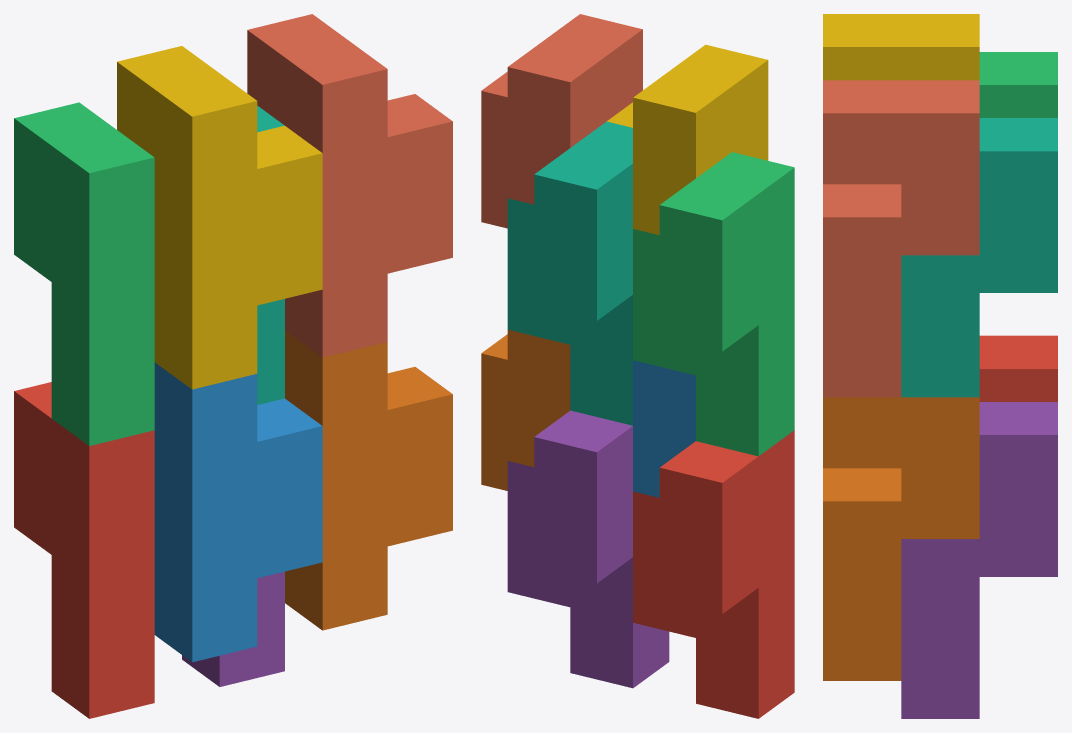
Rendered from tiling.obj.
3 renders of one model, left to right at view 1: azimuth 30°, elevation 25°; view 2: azimuth 150°, elevation 25°; view 3: azimuth 270°, elevation 25°, orthographic. The views are drawn at different scales.
Parts seen in each view (by area): view 1: copy_1_domain_4, copy_1_domain_8, copy_1_domain_2, copy_1_domain_3, copy_1_domain_1, copy_1_domain_6, copy_1_domain_5, copy_1_domain_7; view 2: copy_1_domain_3, copy_1_domain_1, copy_1_domain_5, copy_1_domain_7, copy_1_domain_8, copy_1_domain_4, copy_1_domain_6, copy_1_domain_2; view 3: copy_1_domain_8, copy_1_domain_6, copy_1_domain_5, copy_1_domain_7, copy_1_domain_4, copy_1_domain_1, copy_1_domain_3.
Boxes of the visible parts, x1,y1,x2,y2 form: copy_1_domain_4: (117, 46, 322, 389); copy_1_domain_8: (247, 14, 452, 357); copy_1_domain_2: (154, 362, 322, 662); copy_1_domain_3: (14, 102, 154, 445); copy_1_domain_1: (14, 382, 154, 718); copy_1_domain_6: (285, 330, 452, 630); copy_1_domain_5: (182, 571, 284, 686); copy_1_domain_7: (257, 106, 284, 404); copy_1_domain_3: (633, 152, 794, 456); copy_1_domain_1: (633, 430, 794, 718); copy_1_domain_5: (507, 410, 669, 688); copy_1_domain_7: (507, 121, 632, 425); copy_1_domain_8: (481, 14, 642, 228); copy_1_domain_4: (607, 44, 768, 235); copy_1_domain_6: (481, 329, 570, 490); copy_1_domain_2: (633, 360, 695, 497); copy_1_domain_8: (823, 80, 979, 397); copy_1_domain_6: (823, 397, 979, 680); copy_1_domain_5: (901, 402, 1057, 718); copy_1_domain_7: (901, 118, 1057, 397); copy_1_domain_4: (823, 14, 979, 80); copy_1_domain_1: (979, 335, 1057, 401); copy_1_domain_3: (979, 52, 1057, 117).
Bounding box in the file's own units: 5 × 9 × 3.
